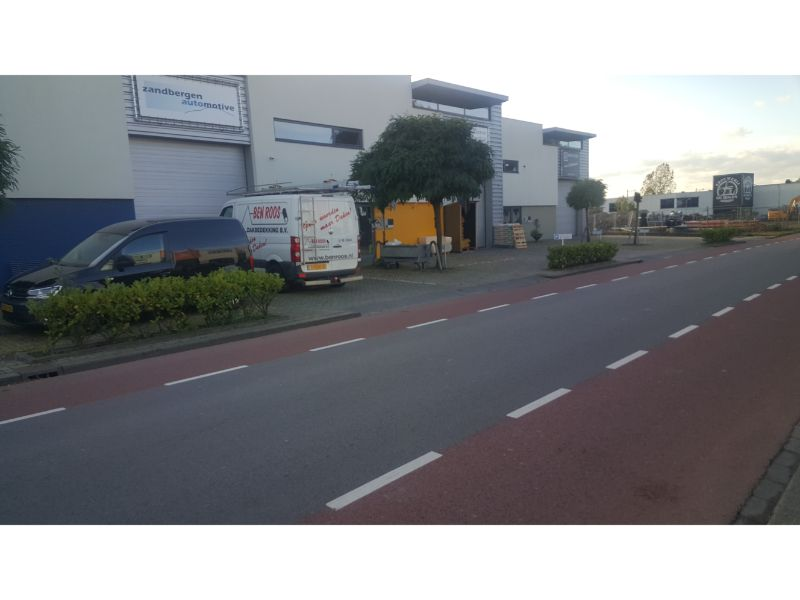kenteken: (305, 261, 327, 272)
